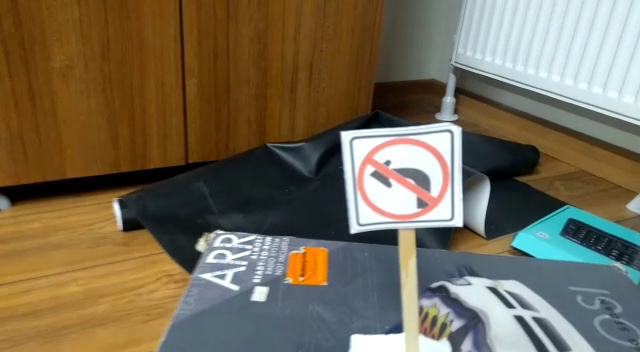sola_donulmez: (354, 131, 452, 228)
